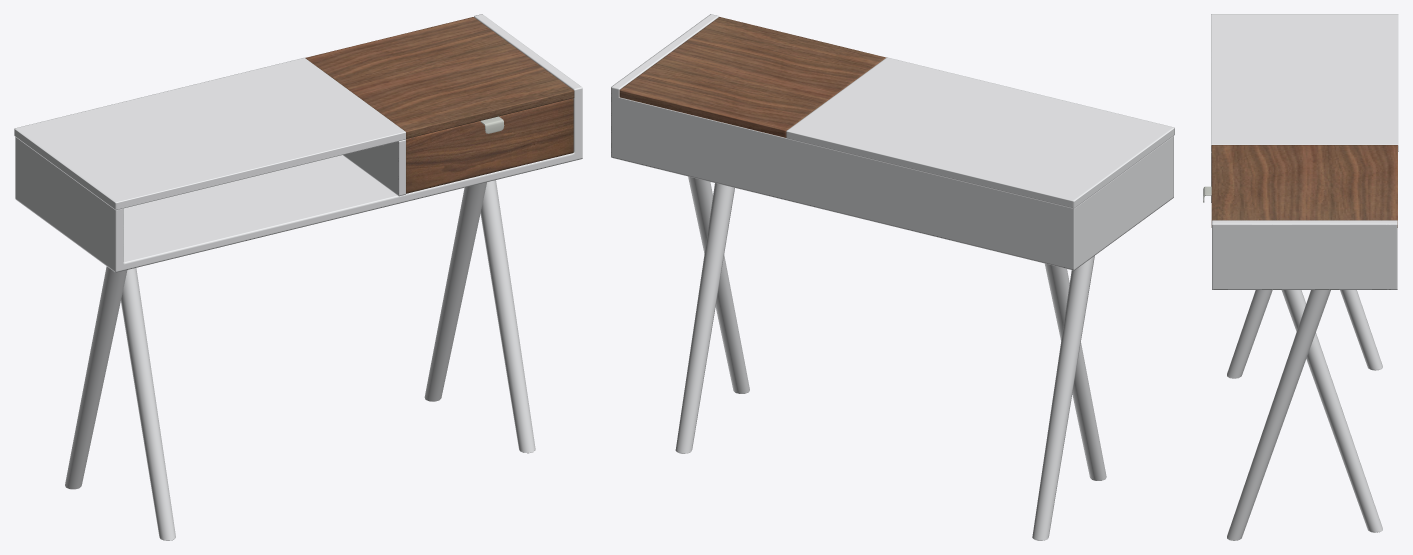
Rendered from desk_B075Z7HQK5.glb.
3 renders of one model, left to right at view 1: azimuth 30°, elevation 25°; view 2: azimuth 150°, elevation 25°; view 3: azimuth 270°, elevation 25°, orthographic. The views are drawn at different scales.
Parts seen in each view (by area): view 1: RootNode; view 2: RootNode; view 3: RootNode.
Part boxes in pixels (x1,y1,x2,y2): RootNode: (14, 14, 582, 540); RootNode: (611, 14, 1174, 540); RootNode: (1203, 14, 1398, 540).
Bounding box in the file's own units: 1.07 × 0.7854 × 0.4177.
1 material, 1 textured.
